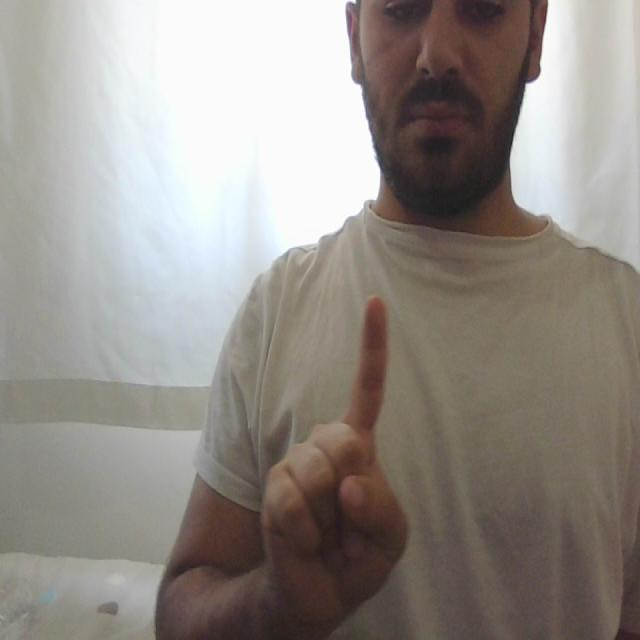Hayir: (254, 283, 424, 609)
